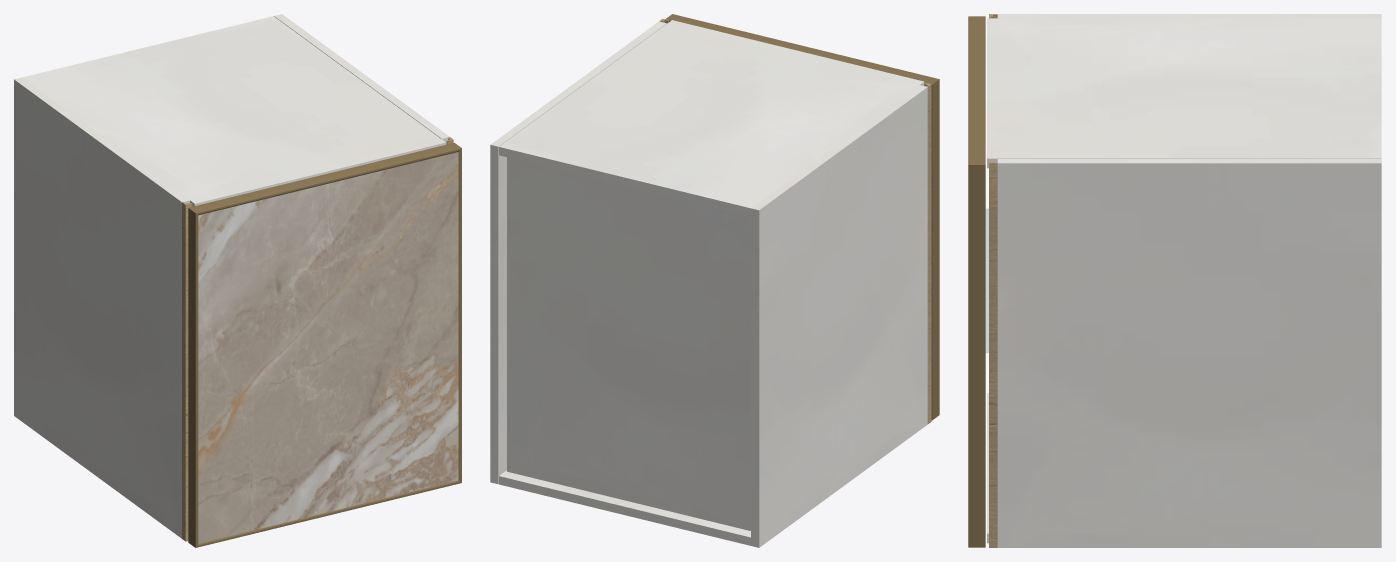
The model's file is LOF-SH-NHX-ST-1SX-LHS-XXX-500-600-560-16.glb.
The picture shows the model from 3 angles, left to right: view 1: azimuth 30°, elevation 25°; view 2: azimuth 150°, elevation 25°; view 3: azimuth 270°, elevation 25°; orthographic projection. The views are drawn at different scales.
Visible parts, largest first — view 1: Object_node_4, TP_node_0, TP, Extrusion_node_1, Extrusion, Object_node_6, TP_node_1, Extrusion_node, Extrusion_node_0; view 2: TP_node_2, TP_node_0, TP, TP_node_1, TP_node, Extrusion_node_1, Extrusion, Object_node_6; view 3: TP_node_1, TP, Extrusion_node, Object_node_12, Extrusion, TP_node_0.
Boxes of the visible parts, x1=… form: Object_node_4: x1=198, y1=152, x2=458, y2=543; TP_node_0: x1=14, y1=77, x2=189, y2=538; TP: x1=22, y1=16, x2=446, y2=206; Extrusion_node_1: x1=188, y1=208, x2=198, y2=547; Extrusion: x1=188, y1=142, x2=461, y2=215; Object_node_6: x1=182, y1=202, x2=192, y2=541; TP_node_1: x1=274, y1=14, x2=449, y2=144; Extrusion_node: x1=458, y1=148, x2=461, y2=482; Extrusion_node_0: x1=196, y1=480, x2=461, y2=547; TP_node_2: x1=507, y1=157, x2=750, y2=530; TP_node_0: x1=751, y1=85, x2=927, y2=547; TP: x1=499, y1=20, x2=924, y2=216; TP_node_1: x1=490, y1=21, x2=666, y2=484; TP_node: x1=499, y1=470, x2=750, y2=545; Extrusion_node_1: x1=931, y1=79, x2=939, y2=420; Extrusion: x1=665, y1=14, x2=939, y2=84; Object_node_6: x1=924, y1=82, x2=931, y2=424; TP_node_1: x1=997, y1=159, x2=1381, y2=547; TP: x1=987, y1=18, x2=1381, y2=168; Extrusion_node: x1=968, y1=165, x2=985, y2=547; Object_node_12: x1=989, y1=160, x2=997, y2=547; Extrusion: x1=968, y1=16, x2=985, y2=164; TP_node_0: x1=997, y1=14, x2=1381, y2=18.
Size of what is drawn, in the model's own units: 0.5 by 0.6 by 0.5842.
Materials: 7 (3 with a texture image).
